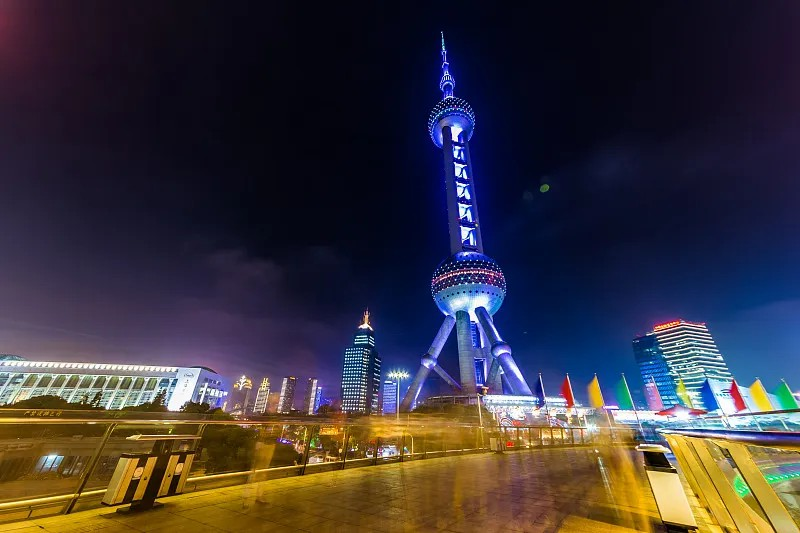Oriental: (401, 34, 532, 410)
